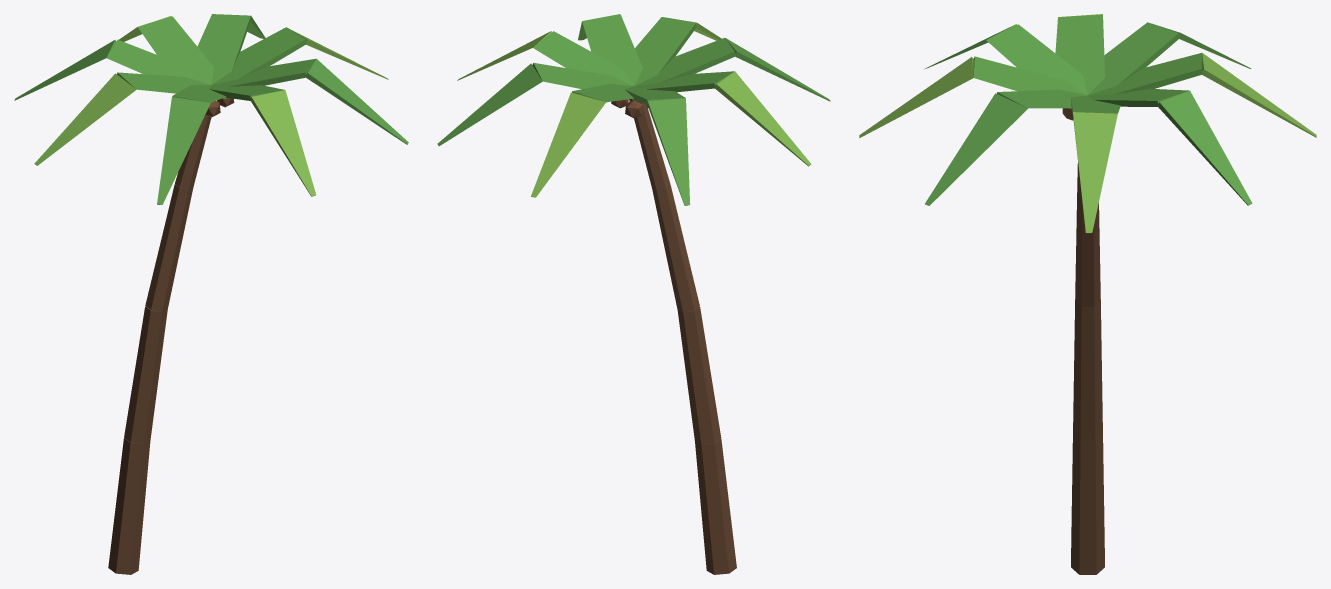
Rendered from palm.glb.
3 views of the same model, side by side, from view 1: azimuth 30°, elevation 25°; view 2: azimuth 150°, elevation 25°; view 3: azimuth 270°, elevation 25° (orthographic). The views are drawn at different scales.
Parts seen in each view (by area): view 1: palm; view 2: palm; view 3: palm.
Boxes of the visible parts, x1,y1,x2,y2 form: palm: [14, 14, 408, 574]; palm: [437, 14, 830, 574]; palm: [859, 14, 1316, 574].
Bounding box in the file's own units: 6.41 × 8.57 × 6.41.
